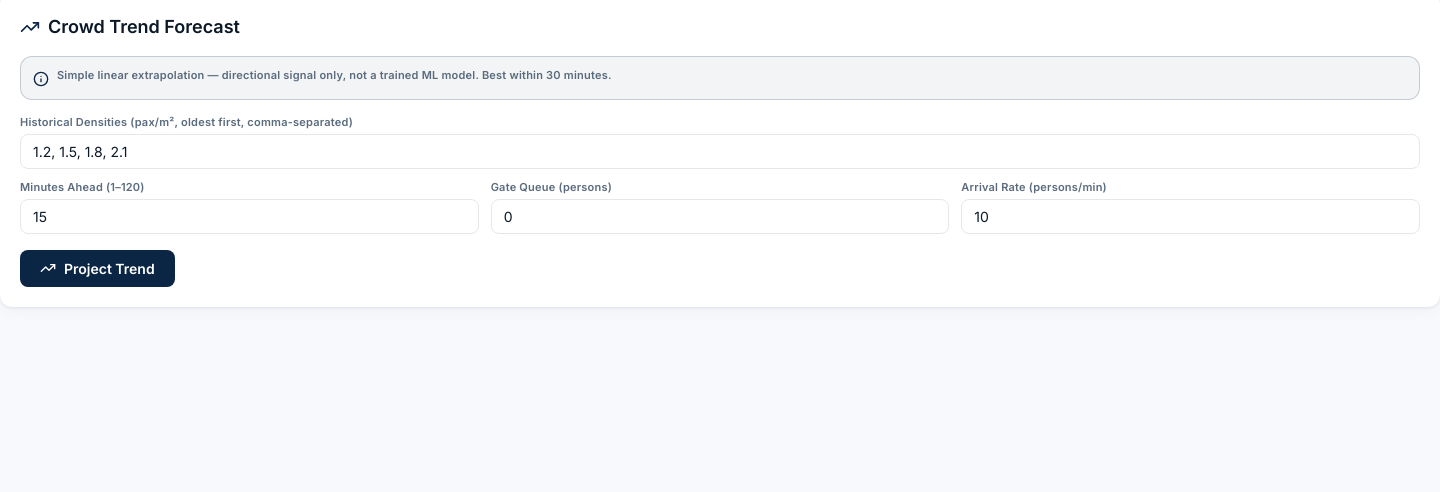
Test: PredictionPanel › renders correctly and submits prediction request
This screenshot has width=1440, height=492.
expect the heading "Crowd Trend Forecast" is shown: met, box [20,16,240,37]
Click the button "Project Trend" at (97, 268), box [20,250,175,286]
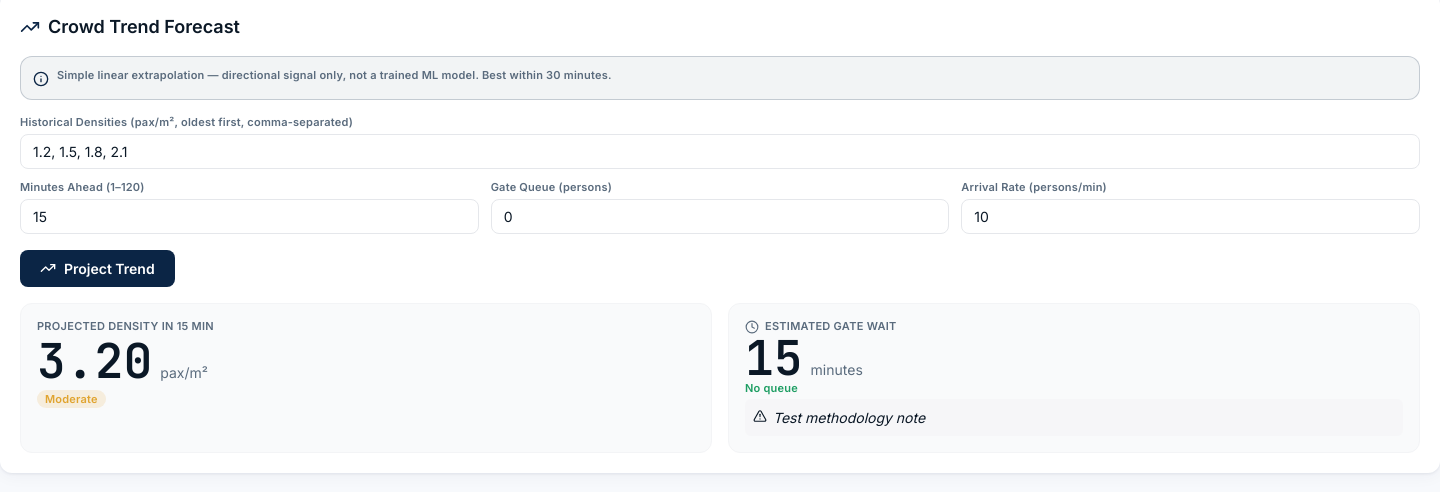
expect the text "3.20" is shown: met, box [37,337,152,385]
expect the text "15" is shown: met, box [745,334,803,382]
expect the text "Test methodology note" is shown: met, box [773,407,925,428]
